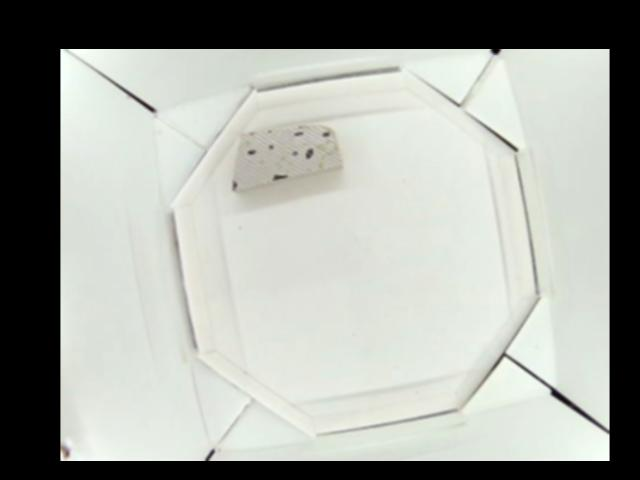China: (231, 123, 340, 194)
